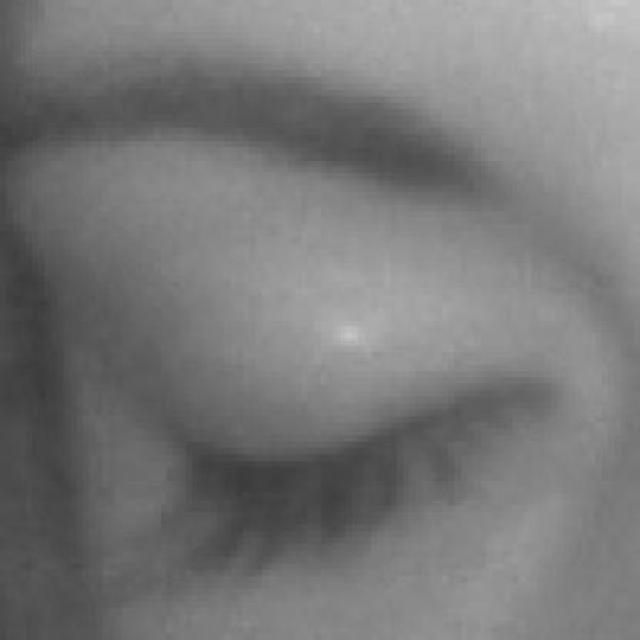drowsy: (166, 256, 563, 633)
